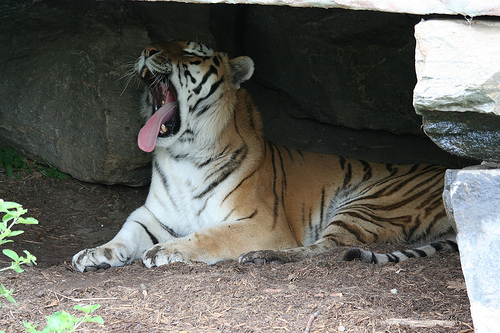Tigre: (100, 33, 437, 285)
